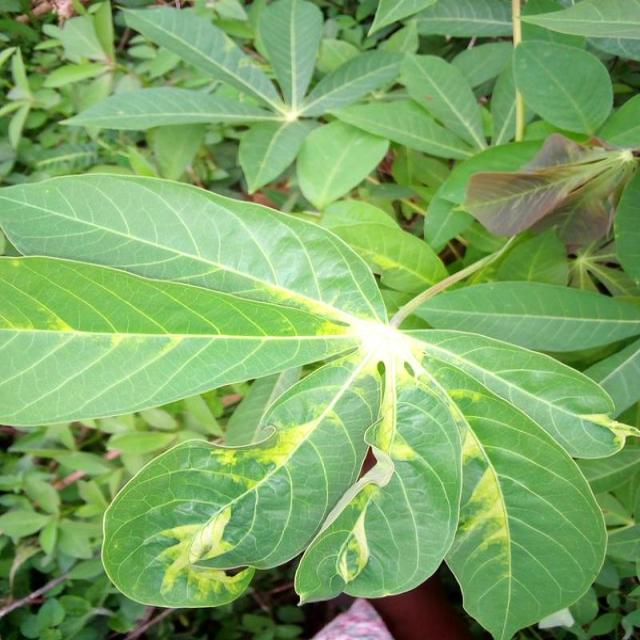cassava leaf: (0, 167, 638, 636), (0, 167, 389, 428)
